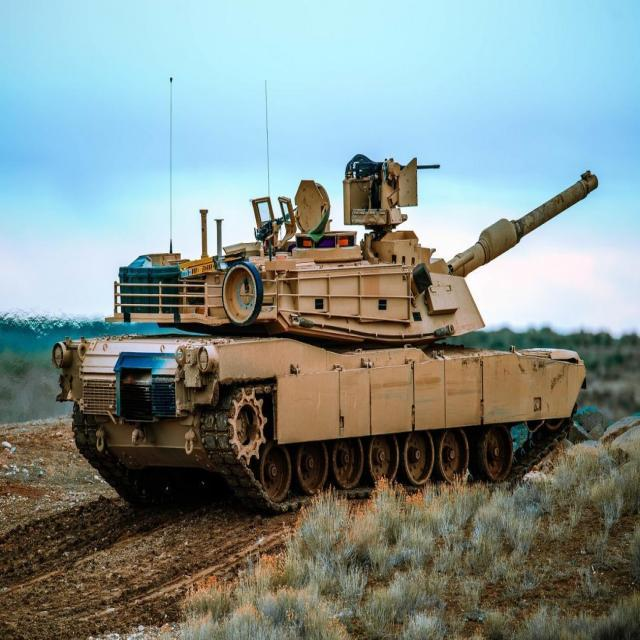Tanks: (52, 136, 568, 496)
